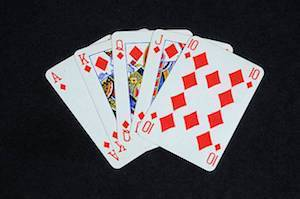AceOfDiamonds: (38, 62, 89, 151)
JackOfDiamonds: (141, 29, 186, 122)
KingOfDiamonds: (72, 40, 124, 154)
QueenOfDiamonds: (103, 28, 142, 146)
TenOfDiamonds: (172, 33, 268, 174)
